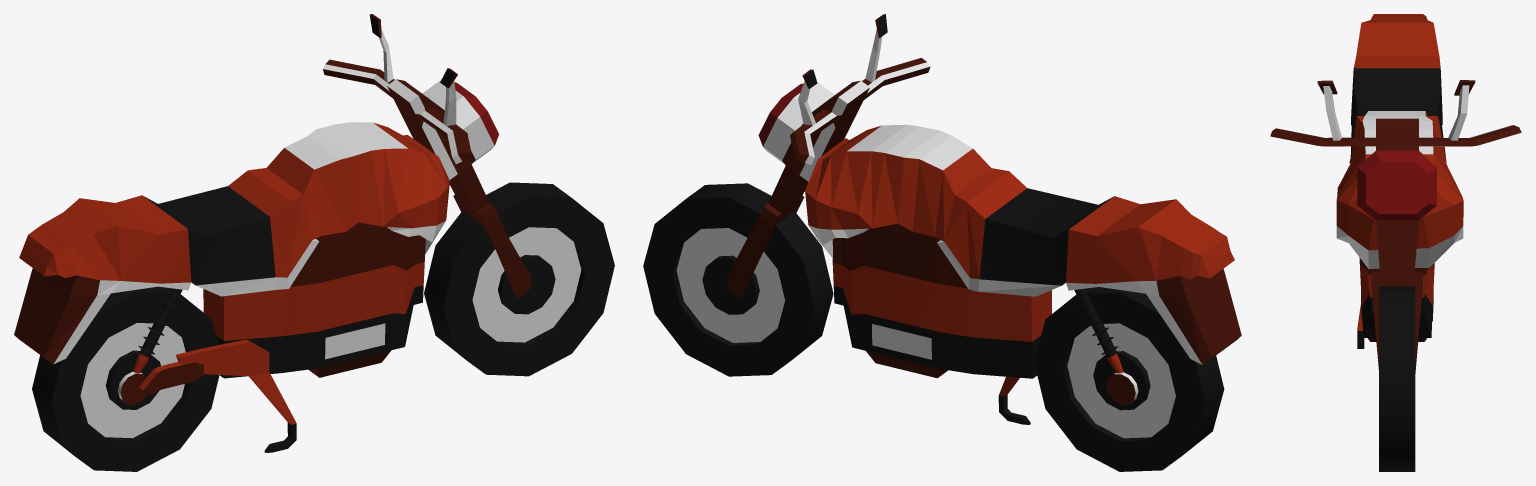
The model's file is Moto_M_v1_Carrie.FBX.
3 renders of one model, left to right at view 1: azimuth 30°, elevation 25°; view 2: azimuth 150°, elevation 25°; view 3: azimuth 270°, elevation 25°, orthographic. The views are drawn at different scales.
Parts seen in each view (by area): view 1: moto; view 2: moto; view 3: moto.
Boxes of the visible parts, bbox=[...] form: moto: bbox=[14, 14, 614, 471]; moto: bbox=[643, 14, 1241, 471]; moto: bbox=[1270, 14, 1521, 471].
Bounding box in the file's own units: 687 × 404 × 274.
